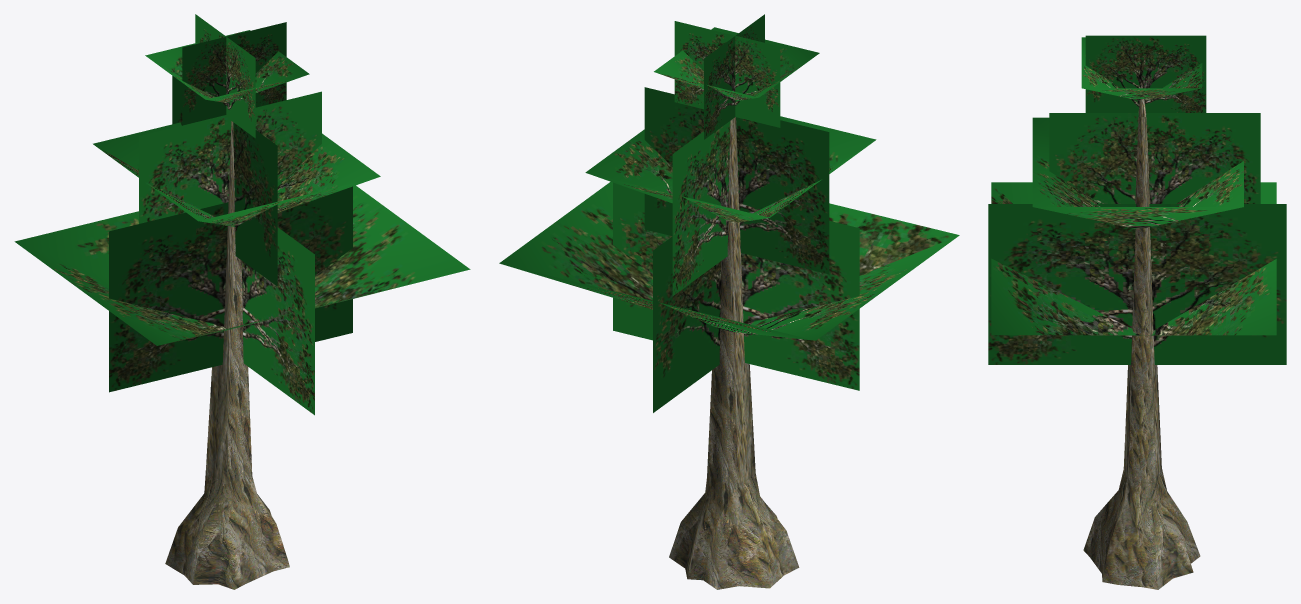
The model's file is decd_brownflaredroots_l2.fbx.
The picture shows the model from 3 angles, left to right: view 1: azimuth 30°, elevation 25°; view 2: azimuth 150°, elevation 25°; view 3: azimuth 270°, elevation 25°; orthographic projection.
Visible parts, largest first — view 1: mesh_node; view 2: mesh_node; view 3: mesh_node.
Boxes of the visible parts, <box> form: mesh_node: <box>14,14,470,589</box>; mesh_node: <box>499,14,959,589</box>; mesh_node: <box>988,35,1286,589</box>.
Size of the model in its own units: 15 by 24.02 by 12.36.
